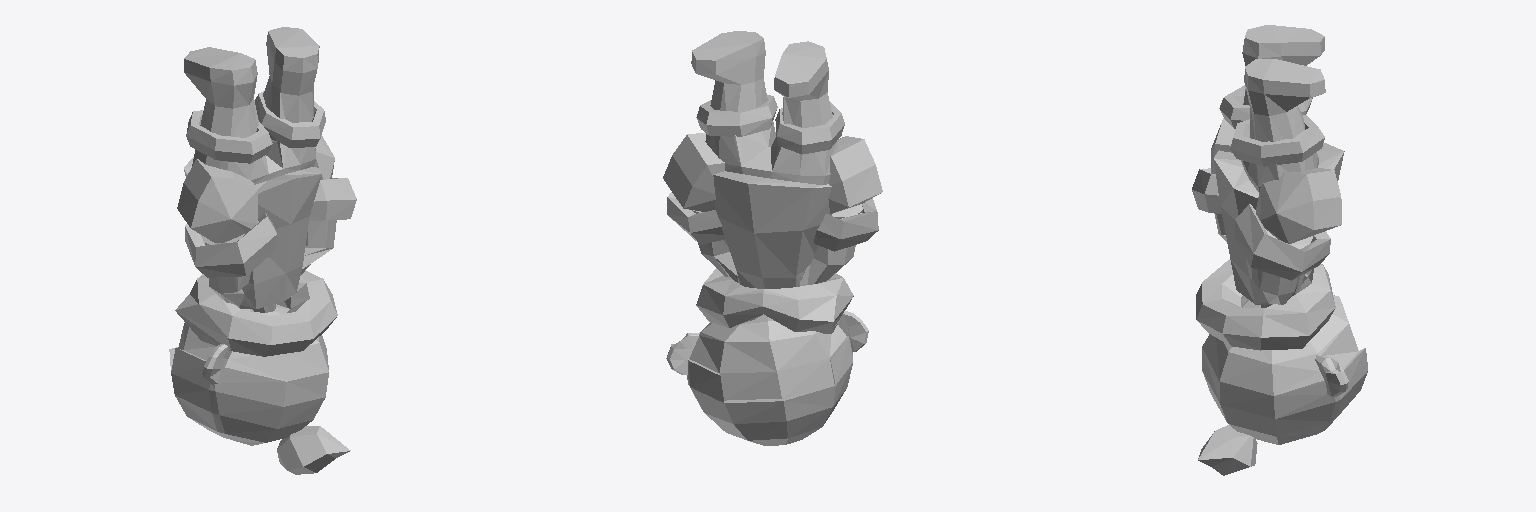
The model's file is eikastanding_000088.obj.
3 renders of one model, left to right at view 1: azimuth 30°, elevation 25°; view 2: azimuth 150°, elevation 25°; view 3: azimuth 270°, elevation 25°, orthographic.
Visible parts, largest first — view 1: Cylinder; view 2: Cylinder; view 3: Cylinder.
Boxes of the visible parts, <box> form: Cylinder: <box>169,27,356,474</box>; Cylinder: <box>663,31,882,445</box>; Cylinder: <box>1192,25,1367,475</box>.
Bounding box in the file's own units: 25.3 × 55.58 × 21.49.